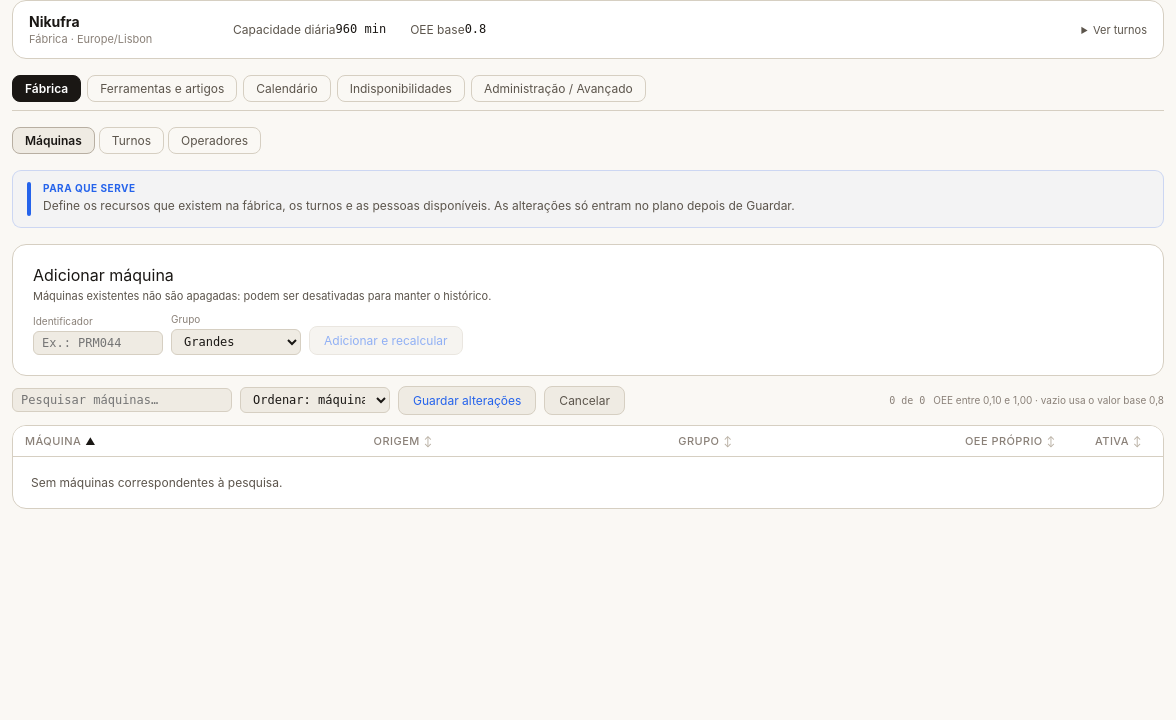
Test: Configuração › torna os dados ISOP acessíveis em modo read-only
Click the button "Administração / Avançado". click: (558, 88)
box: x1=471 y1=75 x2=646 y2=102
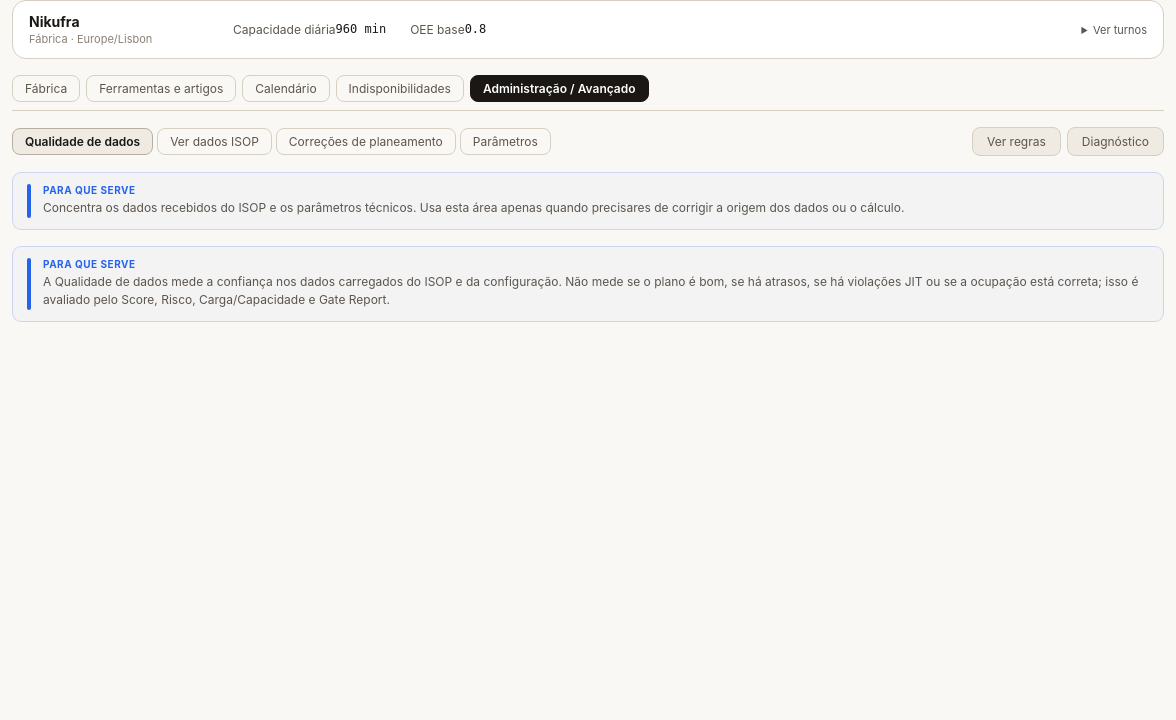
Click the button "Ver dados ISOP". click: (215, 142)
box: x1=157 y1=128 x2=272 y2=155
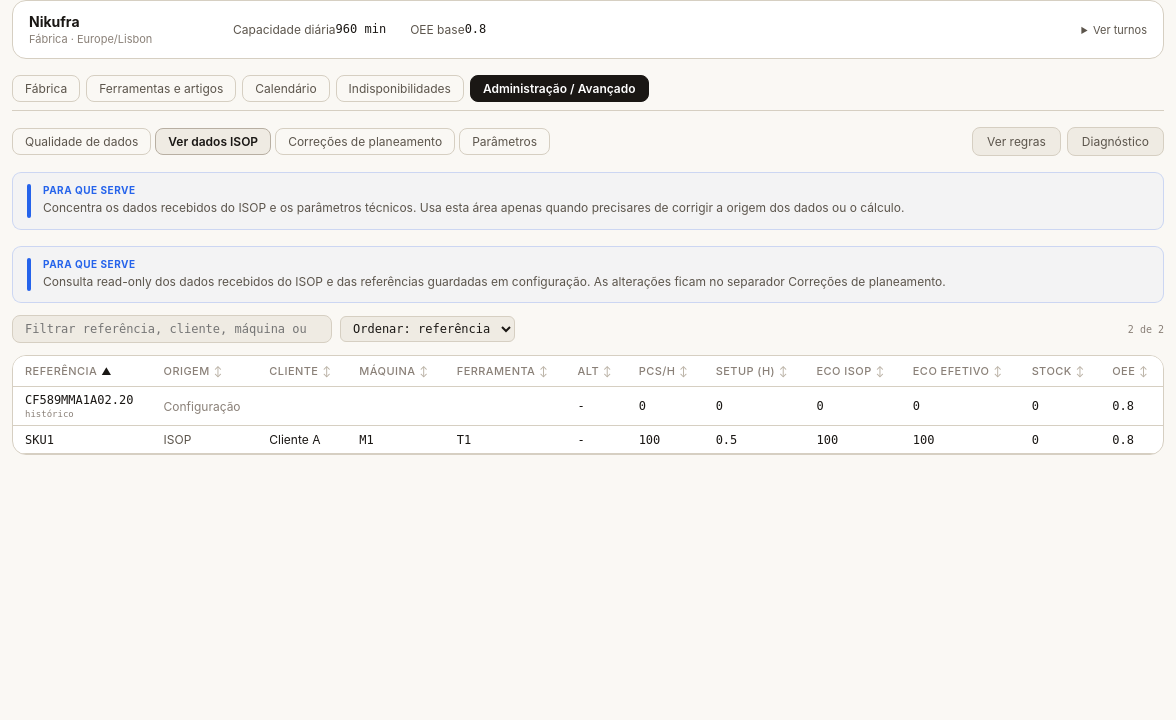
expect the text "Consulta read-only dos dados recebidos do ISOP" is shown: met, box x1=43 y1=274 x2=946 y2=289
expect the search field named "Pesquisar dados ISOP" is shown: met, box x1=12 y1=315 x2=332 y2=343
expect the dropdown named "Ordenar dados ISOP" is shown: met, box x1=340 y1=316 x2=515 y2=342
